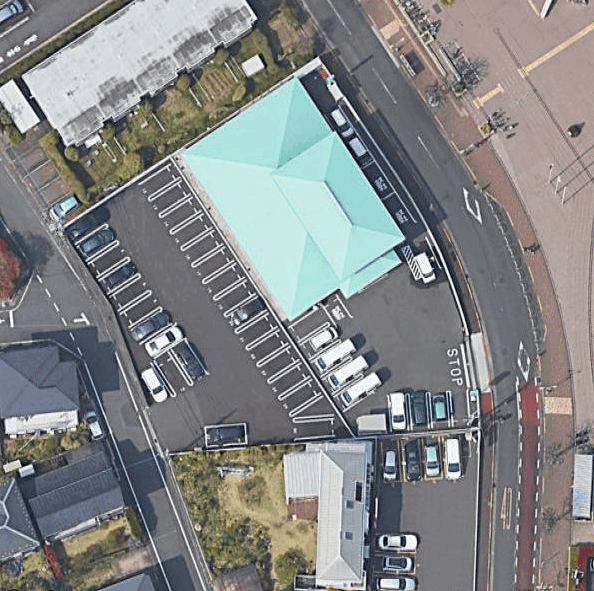flatroof: (18, 0, 181, 148)
parkinglot: (54, 154, 320, 463)
